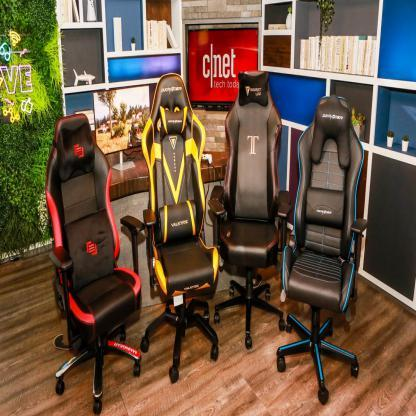chair: (44, 105, 146, 413), (277, 89, 373, 408), (147, 77, 221, 379), (220, 57, 288, 343)
table: (102, 148, 240, 297)
